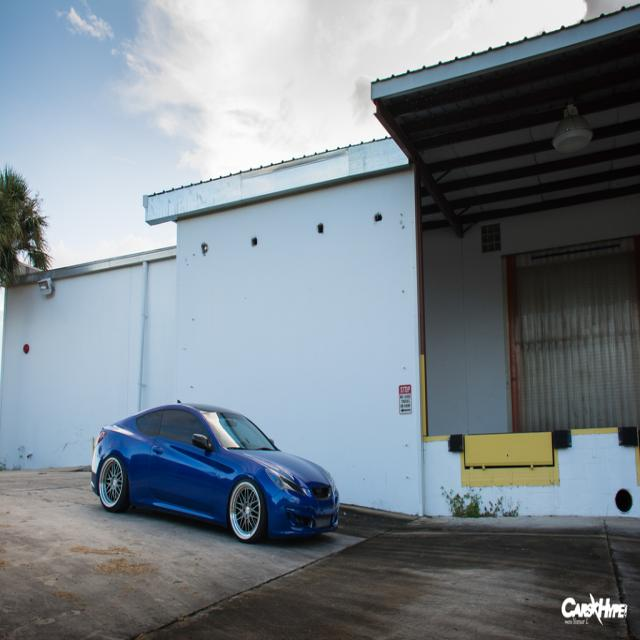car: (89, 397, 339, 544)
